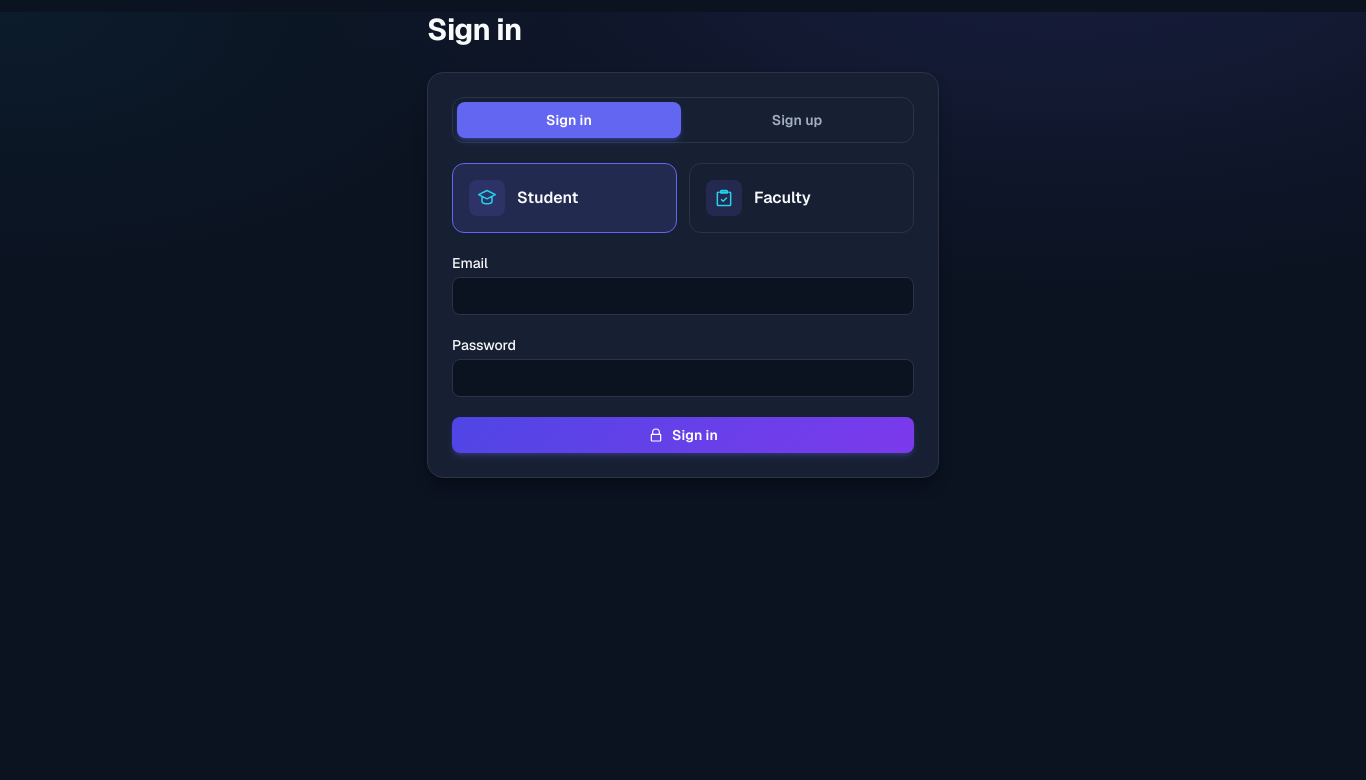
Scenario: Sign up › switches to the sign-up form: full name, email, password and confirm password
This screenshot has width=1366, height=780.
Click the tab "Sign up". click: (797, 120)
box: x1=685 y1=102 x2=909 y2=138
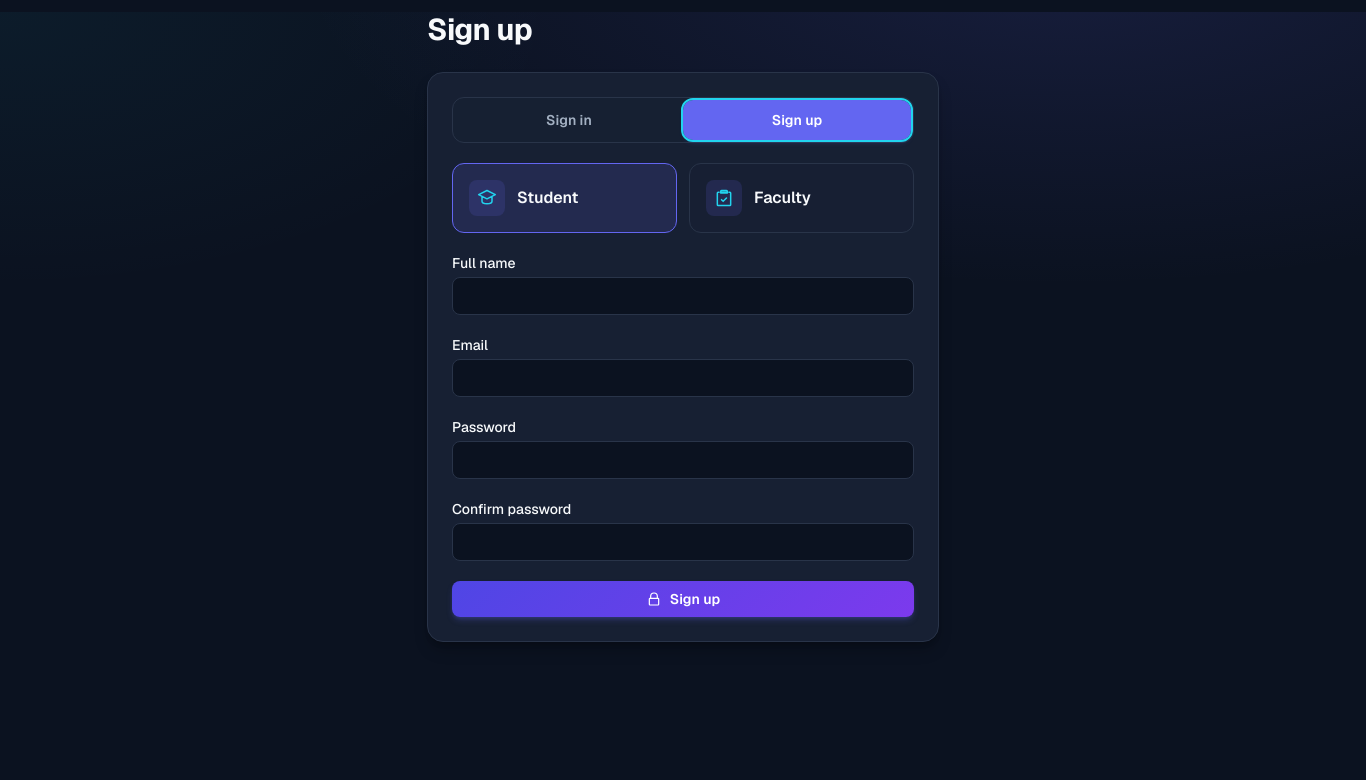
Expected: the field labelled "Full name" is shown, x1=452 y1=277 x2=914 y2=315
Expected: the password field labelled "Confirm password" is shown, x1=452 y1=523 x2=914 y2=561
